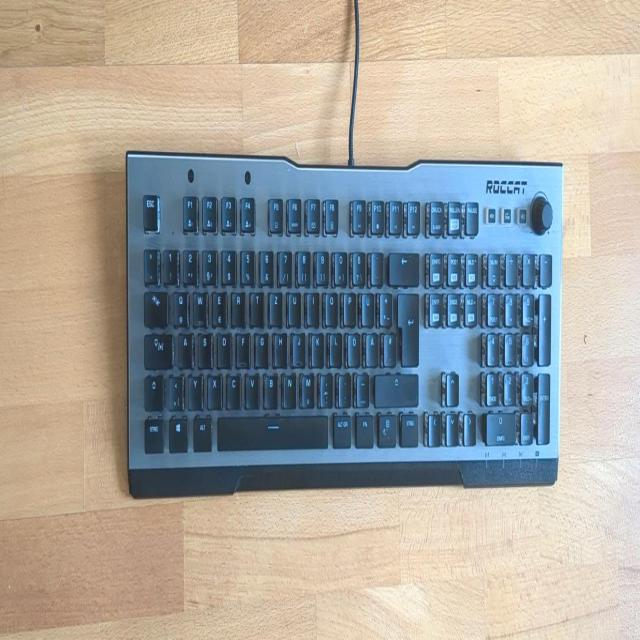0: (333, 247, 346, 281)
1: (162, 244, 177, 282)
2: (182, 245, 197, 281)
3: (201, 245, 216, 282)
4: (221, 245, 236, 281)
5: (240, 245, 255, 281)
6: (258, 245, 273, 281)
7: (277, 246, 291, 281)
8: (296, 246, 310, 282)
9: (314, 246, 328, 281)
a: (177, 328, 192, 364)
accent: (370, 248, 382, 282)
ae: (365, 328, 378, 362)
alt-left: (192, 411, 211, 449)
altgr-right: (331, 407, 350, 445)
b: (263, 368, 277, 404)
c: (225, 369, 240, 405)
caret: (142, 245, 157, 281)
comma: (318, 368, 331, 404)
d: (216, 327, 231, 364)
del: (387, 248, 418, 282)
e: (211, 286, 226, 323)
enter: (396, 286, 418, 363)
f: (235, 328, 249, 362)
g: (254, 327, 267, 363)
h: (273, 328, 287, 363)
hash: (382, 328, 395, 362)
i: (305, 286, 319, 321)
j: (291, 328, 304, 362)
k: (309, 328, 323, 363)
keyboard: (124, 145, 562, 492)
l: (328, 328, 341, 363)
less: (167, 370, 182, 407)
m: (300, 368, 314, 405)
minus: (355, 368, 367, 402)
n: (282, 372, 296, 408)
o: (324, 287, 338, 322)
oe: (346, 328, 359, 363)
p: (342, 286, 355, 322)
plus: (378, 287, 391, 323)
point: (337, 369, 349, 403)
q: (172, 286, 187, 324)
r: (230, 286, 245, 323)
s: (196, 327, 211, 364)
shift-left: (143, 372, 162, 406)
shift-lock: (143, 329, 172, 366)
shift-right: (373, 369, 417, 403)
space: (215, 409, 326, 448)
ss: (351, 248, 364, 282)
strg-left: (142, 413, 163, 449)
strg-right: (399, 407, 417, 444)
t: (250, 286, 263, 322)
tab: (142, 285, 167, 323)
u: (287, 286, 300, 322)
ue: (360, 287, 373, 323)
v: (244, 367, 258, 404)
w: (191, 285, 206, 322)
x: (206, 369, 221, 405)
y: (186, 369, 201, 405)
z: (268, 286, 282, 322)
